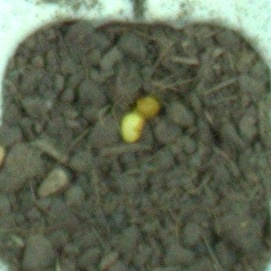pepper seed: (42, 37, 191, 180), (50, 32, 214, 152)
